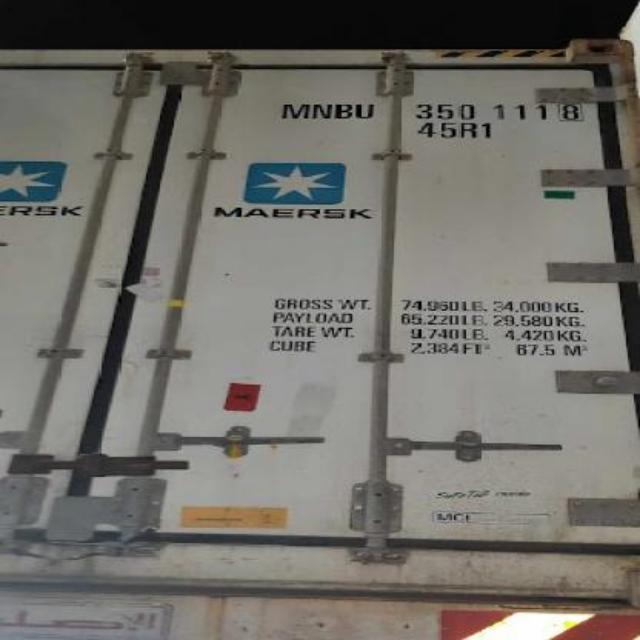0: (458, 102, 478, 122)
1: (510, 102, 534, 126), (534, 103, 556, 121), (496, 101, 514, 122)
3: (416, 103, 438, 121)
5: (436, 105, 458, 118)
8: (558, 103, 588, 121)
B: (332, 102, 356, 122)
M: (282, 102, 312, 122)
N: (312, 100, 338, 120)
U: (352, 100, 380, 120)
